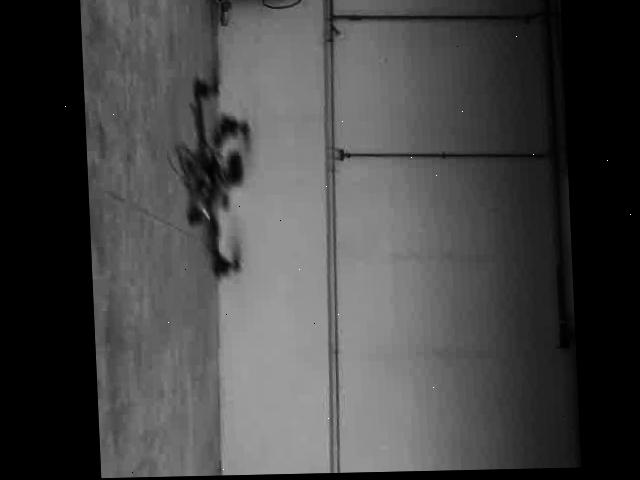drone: (173, 72, 262, 277)
